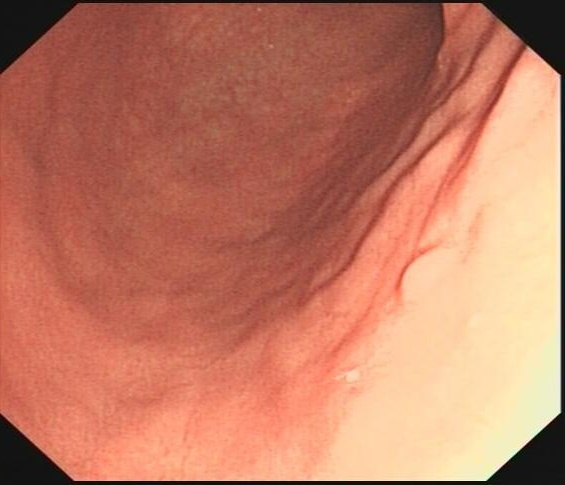Polyp: (394, 241, 463, 310)
